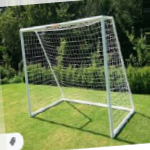goals: (17, 13, 141, 139)
